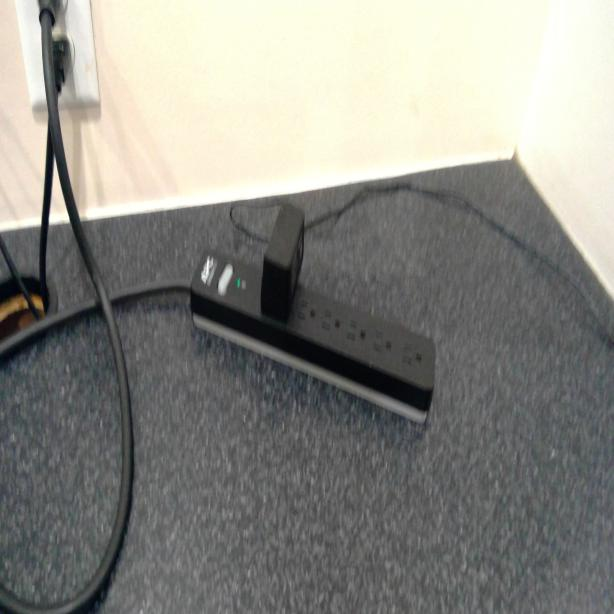typeb: (400, 335, 425, 375), (322, 302, 344, 341), (372, 324, 393, 359), (296, 292, 316, 328), (346, 318, 365, 350)
